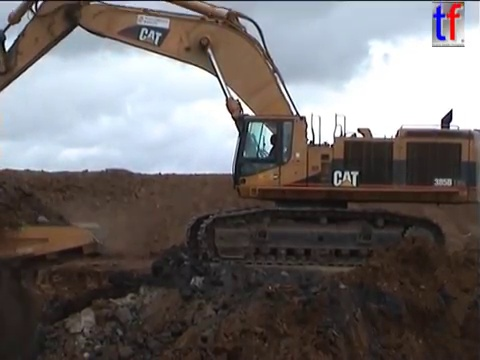excavator: (1, 1, 480, 273)
truck: (1, 216, 106, 360)
